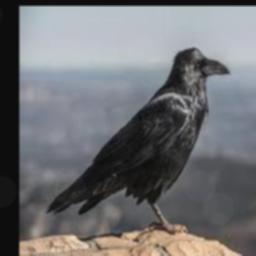Crow: (45, 47, 230, 235)
